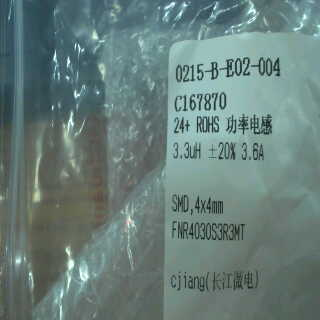3.3uH: (170, 135, 204, 167)
